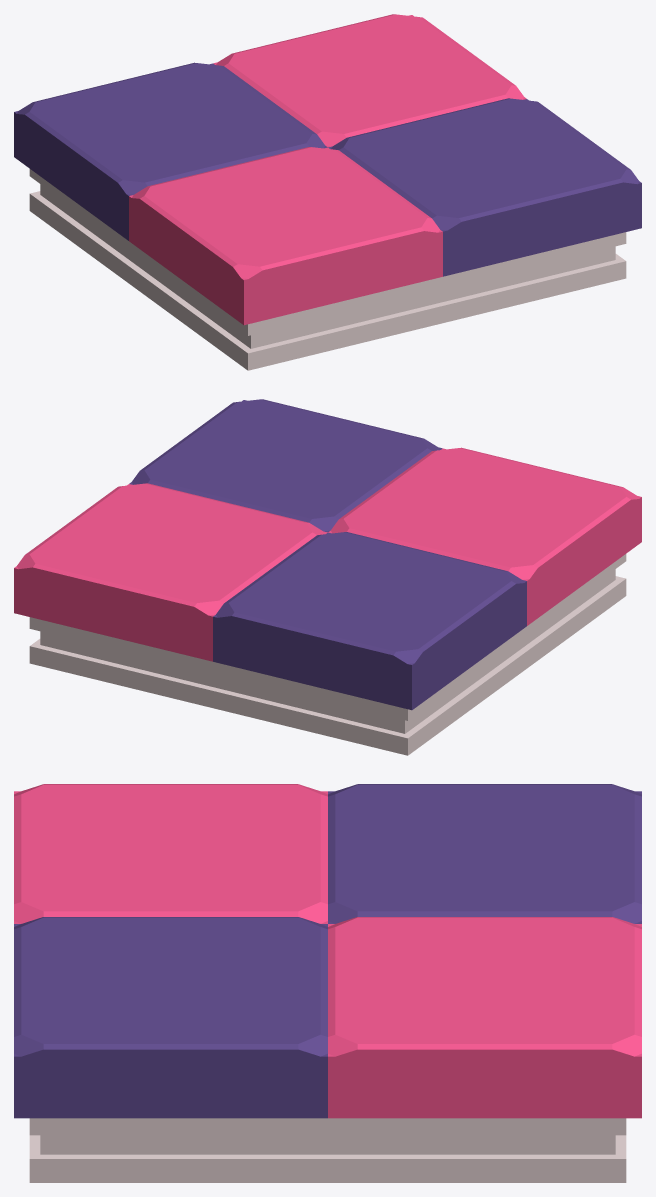
Rendered from checkerboard_v2.2_2x2.fbx.
3 views of the same model, one above another, from view 1: azimuth 30°, elevation 25°; view 2: azimuth 150°, elevation 25°; view 3: azimuth 270°, elevation 25° (orthographic). The views are drawn at different scales.
Parts seen in each view (by area): view 1: Cube.051, Cube.052; view 2: Cube.051, Cube.052; view 3: Cube.051, Cube.052.
Boxes of the visible parts, x1=… form: Cube.051: x1=14, y1=14, x2=641, y2=325; Cube.052: x1=29, y1=169, x2=626, y2=370; Cube.051: x1=14, y1=399, x2=641, y2=710; Cube.052: x1=29, y1=554, x2=626, y2=755; Cube.051: x1=14, y1=784, x2=641, y2=1118; Cube.052: x1=29, y1=1118, x2=626, y2=1182.
Size of the model in its own units: 200 by 50 by 200.
